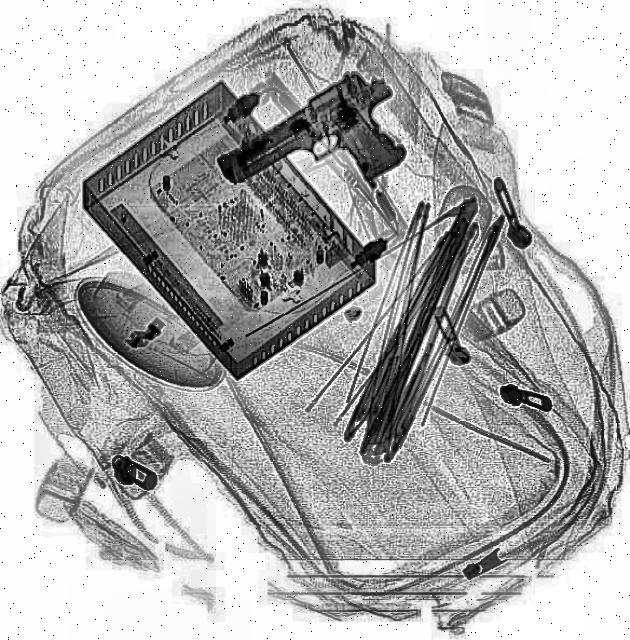Gun: (209, 58, 429, 240)
